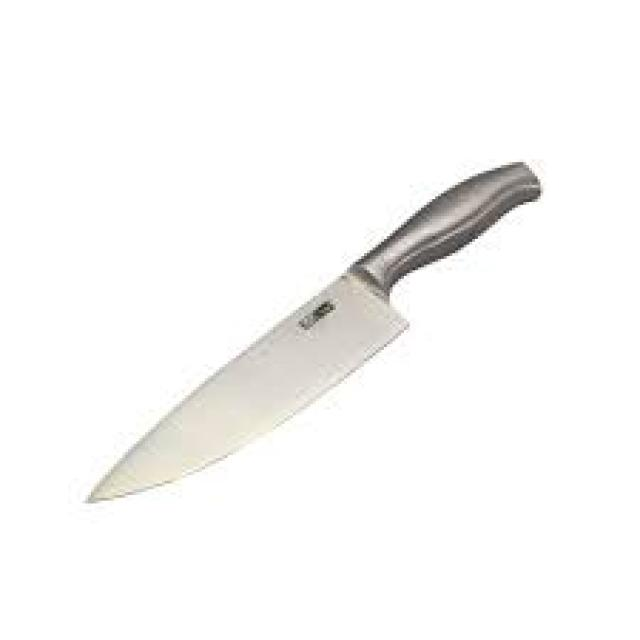Knife: (77, 99, 569, 513)
